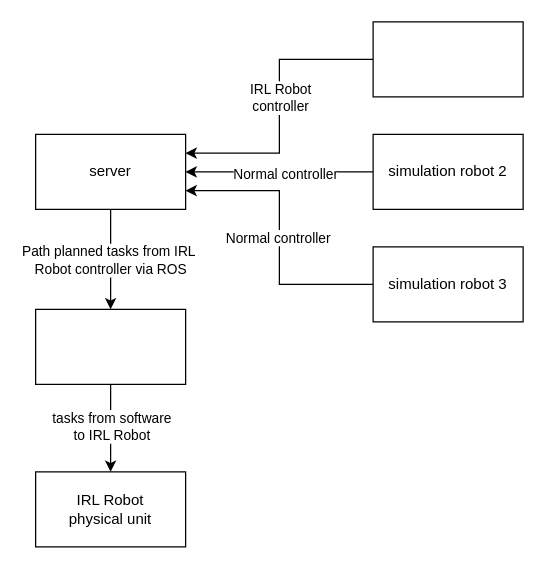
Image size: 545x569. Some labels were removed from this diagram. The shapes that lost their labels are listed below. From the top down, each one's centre as x and y in pixels, then its label:
At (x=447, y=59): "simulation robot 1".
At (x=110, y=346): "GETrequests via IRL Robot software".
